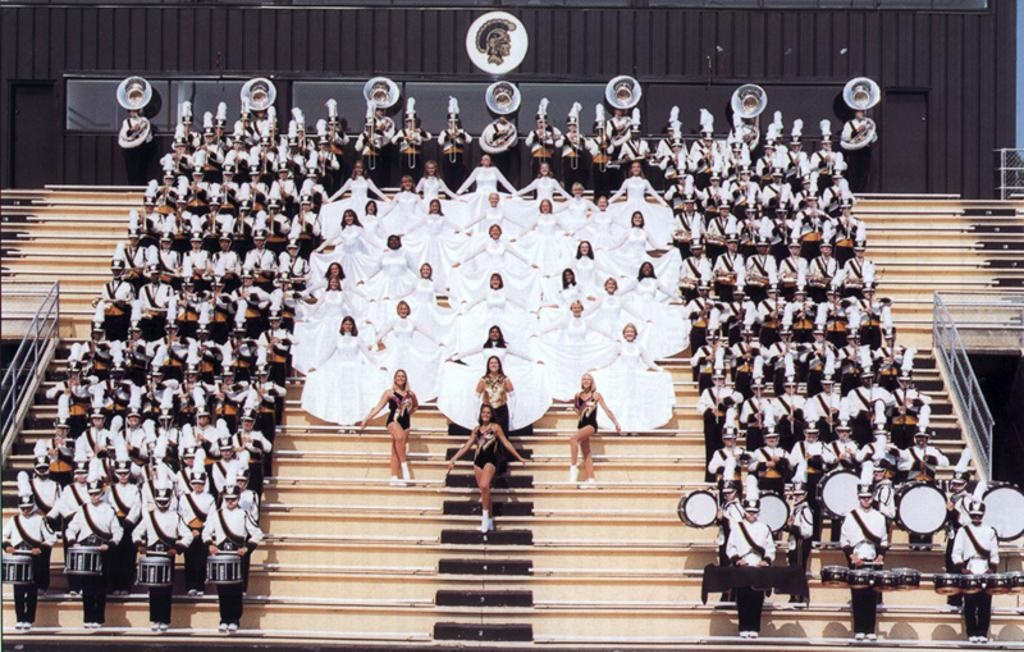human_face: (398, 302, 408, 316), (480, 406, 490, 420), (488, 327, 498, 339), (90, 415, 102, 424), (626, 325, 634, 338), (224, 498, 234, 508), (197, 416, 207, 426), (74, 470, 84, 480), (488, 360, 498, 370), (394, 372, 404, 382), (859, 496, 869, 506), (970, 512, 980, 522), (158, 500, 168, 510), (36, 466, 46, 476), (491, 275, 499, 287), (606, 280, 614, 292), (572, 302, 580, 314), (160, 418, 170, 427), (345, 212, 353, 223), (118, 470, 126, 480), (129, 414, 137, 424), (151, 375, 161, 383), (539, 164, 547, 174), (366, 202, 374, 212), (421, 266, 429, 276), (582, 377, 590, 387), (820, 244, 830, 252), (838, 428, 846, 438), (954, 481, 962, 491), (742, 116, 752, 124), (402, 179, 410, 188), (748, 508, 754, 520), (806, 432, 816, 439), (236, 479, 244, 487), (222, 448, 230, 456), (241, 419, 249, 427), (222, 375, 230, 383), (92, 330, 100, 338), (128, 329, 136, 337), (234, 332, 242, 340), (270, 316, 278, 324), (182, 285, 190, 293), (212, 284, 220, 292), (277, 280, 285, 288), (254, 238, 262, 246), (288, 246, 296, 254), (489, 196, 497, 204), (388, 237, 396, 245), (331, 264, 339, 272), (491, 229, 499, 237), (563, 271, 571, 279), (632, 215, 640, 223), (764, 146, 772, 154), (742, 173, 750, 181), (780, 332, 788, 340), (714, 377, 722, 385), (916, 436, 924, 444), (257, 110, 265, 118), (615, 108, 623, 116), (856, 110, 864, 118), (22, 507, 30, 515), (580, 244, 586, 254), (598, 198, 604, 208), (643, 264, 649, 274), (749, 208, 755, 218), (848, 337, 858, 343), (784, 384, 794, 390), (766, 436, 776, 442), (374, 108, 384, 114), (633, 164, 639, 173), (542, 202, 548, 211), (428, 163, 434, 172), (91, 492, 97, 500), (194, 481, 200, 489), (188, 456, 194, 464), (69, 373, 77, 379), (186, 374, 194, 380), (112, 372, 118, 380), (166, 327, 174, 333), (198, 333, 206, 339), (112, 268, 120, 274), (240, 278, 248, 284), (161, 240, 169, 246), (222, 239, 228, 247), (147, 204, 153, 212), (174, 144, 182, 150), (482, 155, 488, 163), (329, 278, 335, 286), (343, 322, 351, 328), (791, 244, 797, 252), (829, 290, 837, 296), (742, 333, 750, 339), (884, 336, 892, 342), (754, 386, 762, 392), (864, 376, 870, 384), (726, 436, 734, 442), (794, 492, 800, 500), (355, 164, 361, 172), (129, 109, 137, 115), (498, 114, 506, 120), (875, 469, 881, 477), (204, 136, 212, 142), (317, 144, 325, 150), (296, 131, 302, 139), (366, 124, 372, 132), (450, 118, 456, 126), (686, 202, 692, 210), (668, 129, 674, 137), (166, 178, 172, 185), (430, 202, 436, 209), (824, 382, 830, 389), (902, 380, 908, 387), (724, 491, 730, 498), (814, 334, 822, 339), (58, 427, 64, 433), (256, 374, 262, 380), (148, 273, 154, 279), (192, 240, 198, 246), (175, 203, 181, 209), (302, 203, 308, 209), (193, 174, 199, 180), (223, 172, 229, 178), (252, 172, 258, 178), (280, 170, 286, 176), (308, 175, 314, 181), (834, 177, 840, 183), (844, 208, 848, 217), (770, 290, 776, 296), (798, 292, 804, 298), (864, 290, 870, 296), (290, 144, 296, 150), (407, 120, 413, 126), (570, 122, 576, 128), (675, 144, 681, 150), (130, 236, 134, 244), (794, 142, 798, 150), (756, 244, 764, 248), (854, 248, 862, 252), (708, 338, 716, 342), (270, 130, 274, 138), (575, 188, 581, 193), (803, 180, 809, 185), (210, 207, 216, 211), (241, 208, 245, 214), (732, 152, 738, 156), (775, 174, 781, 178), (778, 211, 784, 215), (808, 198, 814, 202), (734, 294, 740, 298), (700, 290, 706, 294), (236, 142, 240, 148), (260, 145, 266, 149), (180, 122, 184, 128), (331, 124, 335, 130), (538, 120, 544, 124), (633, 130, 637, 136), (707, 140, 711, 146), (678, 178, 684, 182), (722, 208, 726, 214), (270, 206, 274, 211), (729, 242, 733, 247), (823, 145, 829, 148), (695, 248, 699, 252), (216, 130, 220, 134), (242, 120, 246, 124), (597, 128, 601, 132), (711, 178, 715, 182)
